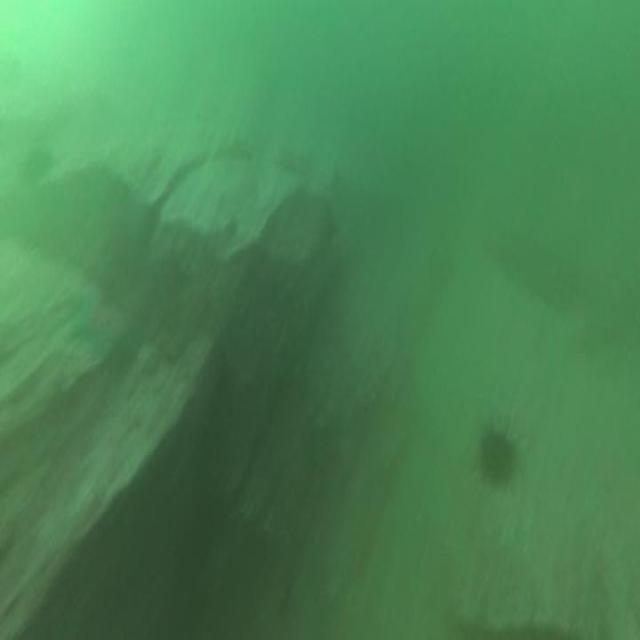echinus: (476, 419, 520, 493)
